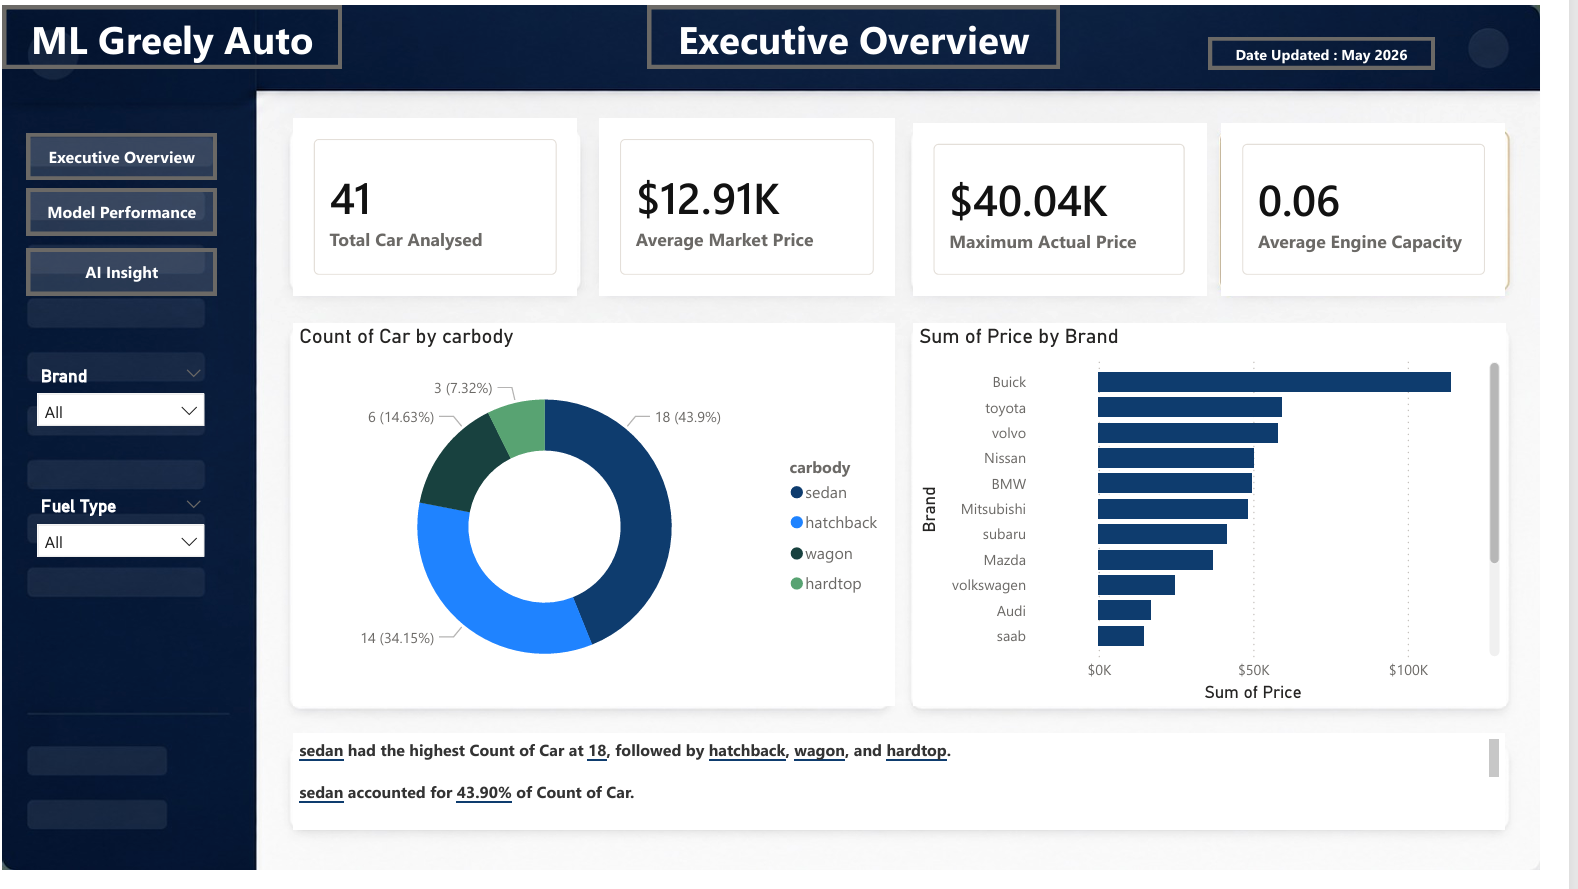

The dashboard page shown, as its layout file describes it:
{"tool":"powerbi","page":{"name":"Executive Overview","canvas":[1280,720],"ordinal":0},"visuals":[{"type":"cardVisual","fields":{"Data":["Car_Price_Final_Labels.Average Market Price"]},"box":[497,94.5,245.7,147.4],"z":0},{"type":"cardVisual","fields":{"Data":["Car_Price_Final_Labels.Total Car Analysed"]},"box":[241.9,94.5,236.2,147.4],"z":1000},{"type":"cardVisual","fields":{"Data":["Car_Price_Final_Labels.Average Engine Capacity"]},"box":[1014.8,98.3,236.2,143.6],"z":2000},{"type":"cardVisual","fields":{"Data":["Car_Price_Final_Labels.Maximum Actual Price"]},"box":[757.8,98.3,243.8,143.6],"z":3000},{"type":"donutChart","fields":{"Category":["Car_Price_Final_Labels.carbody"],"Y":["CountNonNull(Car_Price_Final_Labels.Brand)"]},"box":[241.9,264.6,500.8,319.4],"z":4000},{"type":"clusteredBarChart","fields":{"Category":["Car_Price_Final_Labels.Brand"],"Y":["Sum(Car_Price_Final_Labels.Price)"]},"box":[757.8,264.6,493.2,319.4],"z":5000},{"type":"actionButton","box":[19.5,201.5,158.2,39],"z":6000},{"type":"actionButton","box":[19.5,106.2,158.2,39],"z":7000},{"type":"actionButton","box":[19.5,151.7,158.2,39],"z":8000},{"type":"actionButton","box":[0,0,281.7,52],"z":9000},{"type":"actionButton","box":[537.4,0,342.4,52],"z":10000},{"type":"slicer","fields":{"Values":["Car_Price_Final_Labels.Brand"]},"box":[18.9,294.8,158.7,79.4],"z":11000},{"type":"slicer","fields":{"Values":["Car_Price_Final_Labels.fueltype"]},"box":[18.9,404.4,158.7,68],"z":12000},{"type":"actionButton","box":[1003.9,25.7,187.8,27.3],"z":13000},{"type":"textbox","box":[242.3,605.7,1008.5,80.3],"z":13001}]}

Visuals, with their boxes on the page's 1280x720 design canvas (x1, y1, x2, y2). These are canvas units, not pixel positions in the 1578x889 screenshot, which may show the page scaled, cropped or inside an application window:
cardVisual - Car_Price_Final_Labels.Average Market Price: x1=497 y1=94 x2=743 y2=242
cardVisual - Car_Price_Final_Labels.Total Car Analysed: x1=242 y1=94 x2=478 y2=242
cardVisual - Car_Price_Final_Labels.Average Engine Capacity: x1=1015 y1=98 x2=1251 y2=242
cardVisual - Car_Price_Final_Labels.Maximum Actual Price: x1=758 y1=98 x2=1002 y2=242
donutChart - Car_Price_Final_Labels.carbody x CountNonNull(Car_Price_Final_Labels.Brand): x1=242 y1=265 x2=743 y2=584
clusteredBarChart - Car_Price_Final_Labels.Brand x Sum(Car_Price_Final_Labels.Price): x1=758 y1=265 x2=1251 y2=584
actionButton: x1=20 y1=202 x2=178 y2=240
actionButton: x1=20 y1=106 x2=178 y2=145
actionButton: x1=20 y1=152 x2=178 y2=191
actionButton: x1=0 y1=0 x2=282 y2=52
actionButton: x1=537 y1=0 x2=880 y2=52
slicer - Car_Price_Final_Labels.Brand: x1=19 y1=295 x2=178 y2=374
slicer - Car_Price_Final_Labels.fueltype: x1=19 y1=404 x2=178 y2=472
actionButton: x1=1004 y1=26 x2=1192 y2=53
textbox: x1=242 y1=606 x2=1251 y2=686
